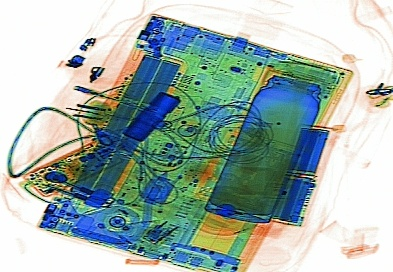powerbank: (264, 122, 339, 228)
